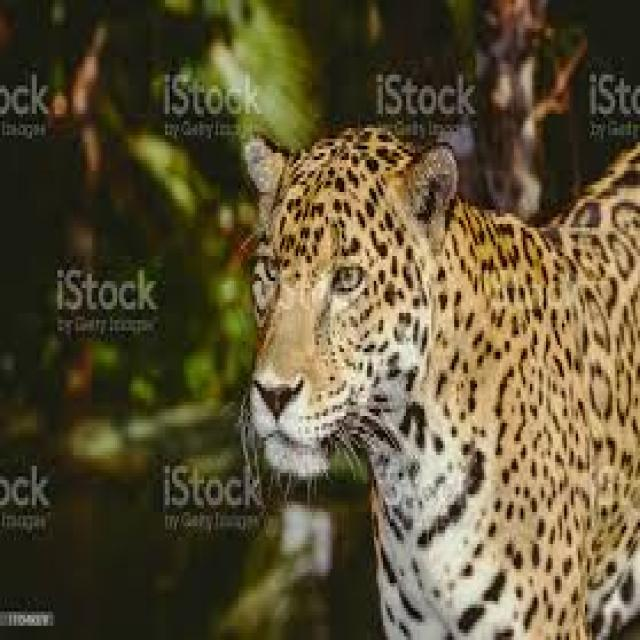Jaguar: (238, 121, 640, 640)
